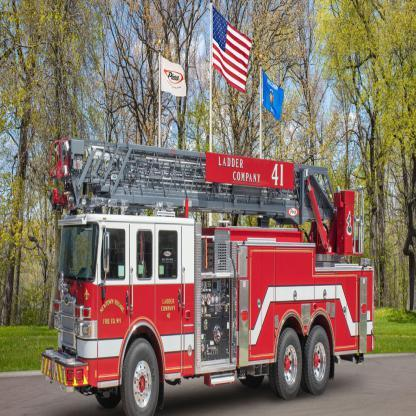fire-truck: (25, 106, 416, 416)
